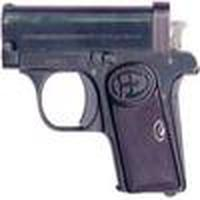gun: (3, 4, 194, 195)
